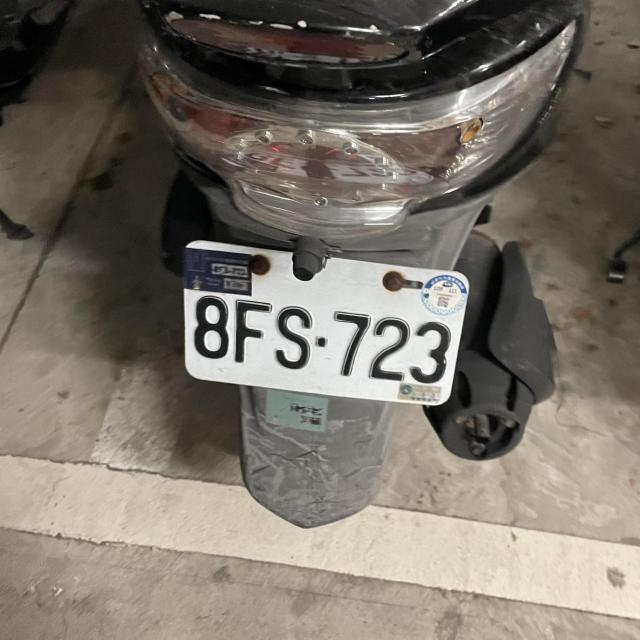W: (169, 232, 476, 412)
